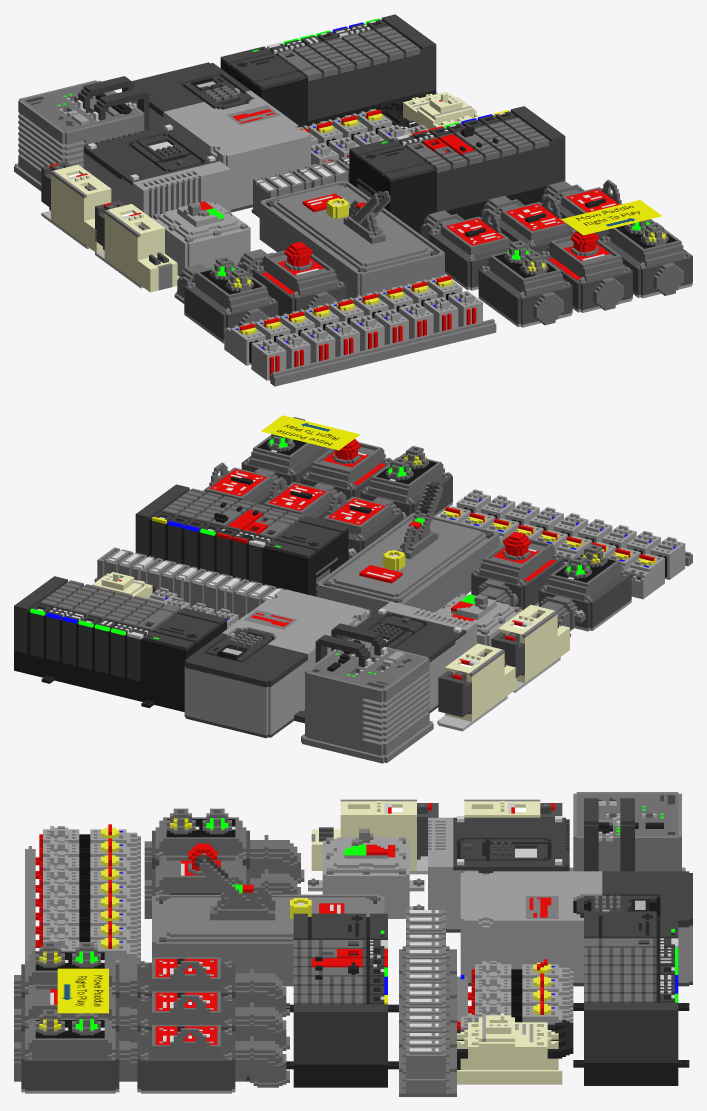
The model's file is StageRightInstruction.glb.
3 views of the same model, one above another, from view 1: azimuth 30°, elevation 25°; view 2: azimuth 150°, elevation 25°; view 3: azimuth 270°, elevation 25° (orthographic). The views are drawn at different scales.
Visible parts, largest first — view 1: FullScene-11, FullScene-12, FullScene-26, FullScene-10, FullScene-5, FullScene-8, ObjObject.004, FullScene-9, FullScene-6, ObjObject.003, ObjObject.002, ObjObject (+14 smaller); view 2: FullScene-12, FullScene-10, FullScene-11, FullScene-8, FullScene-26, FullScene-5, ObjObject, FullScene-7, ObjObject.001, ObjObject.002, ObjObject.004, FullScene-9 (+17 smaller); view 3: FullScene-10, FullScene-11, FullScene-12, FullScene-26, FullScene-5, FullScene-27, FullScene-23, FullScene-14, FullScene-8, FullScene-22, FullScene-13, ObjObject.003 (+23 smaller).
Part boxes in pixels (x1,y1,x2,y2): FullScene-11: [349, 106, 565, 234]; FullScene-12: [220, 14, 436, 127]; FullScene-26: [259, 180, 444, 299]; FullScene-10: [131, 62, 310, 212]; FullScene-5: [83, 124, 230, 217]; FullScene-8: [14, 80, 144, 191]; ObjObject.004: [224, 311, 348, 386]; FullScene-9: [478, 240, 572, 327]; FullScene-6: [373, 275, 496, 350]; ObjObject.003: [299, 293, 422, 368]; ObjObject.002: [95, 200, 177, 292]; ObjObject: [183, 256, 278, 343]; FullScene-12: [14, 576, 226, 712]; FullScene-10: [184, 589, 367, 738]; FullScene-11: [135, 484, 348, 596]; FullScene-8: [301, 639, 433, 763]; FullScene-26: [316, 481, 499, 615]; FullScene-5: [343, 601, 476, 713]; ObjObject: [538, 544, 631, 631]; FullScene-7: [437, 643, 516, 731]; ObjObject.001: [471, 531, 564, 610]; ObjObject.002: [491, 604, 569, 692]; ObjObject.004: [591, 525, 692, 599]; FullScene-9: [360, 446, 452, 519]; FullScene-10: [460, 871, 692, 986]; FullScene-11: [286, 913, 398, 1087]; FullScene-12: [573, 912, 689, 1085]; FullScene-26: [152, 853, 384, 986]; FullScene-5: [428, 816, 569, 932]; FullScene-27: [457, 1001, 573, 1084]; FullScene-23: [14, 1009, 130, 1093]; FullScene-14: [130, 1025, 246, 1093]; FullScene-8: [569, 792, 685, 871]; FullScene-22: [308, 828, 424, 918]; FullScene-13: [457, 959, 573, 1021]; ObjObject.003: [25, 865, 140, 934].
Bounding box in the file's own units: 10.96 × 2.26 × 13.23.
2 materials, 2 textured.
